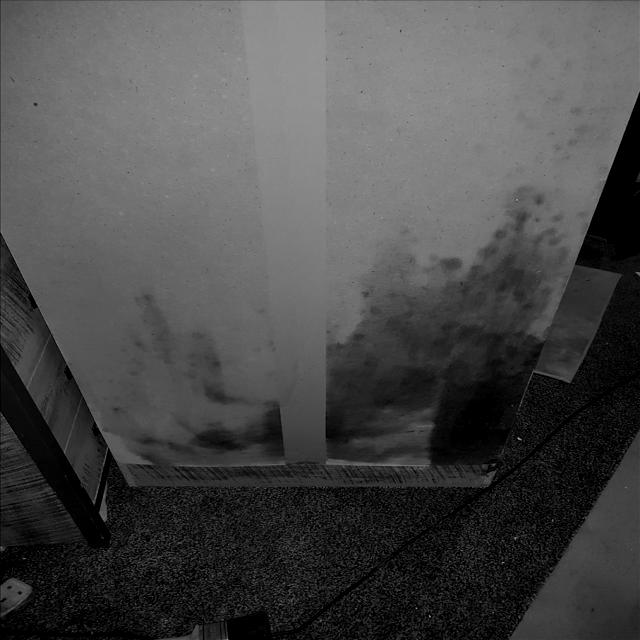pin holes: (21, 96, 46, 120)
stain marks: (81, 29, 631, 490)
